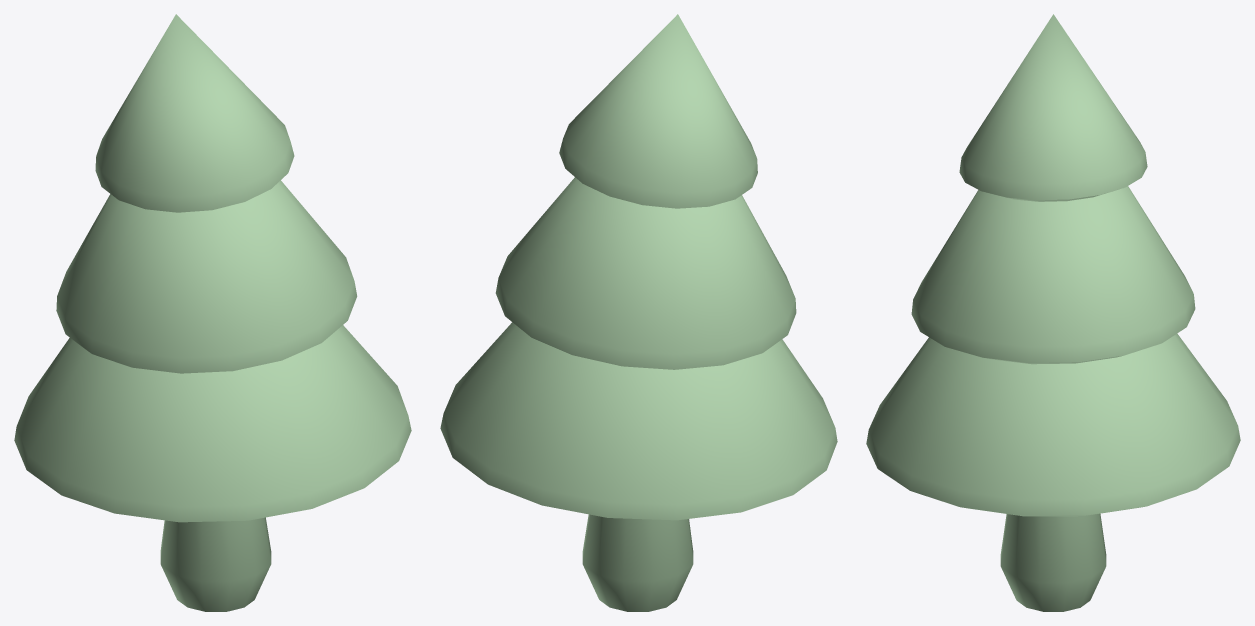
The model's file is tree_large.glb.
The picture shows the model from 3 angles, left to right: view 1: azimuth 30°, elevation 25°; view 2: azimuth 150°, elevation 25°; view 3: azimuth 270°, elevation 25°; orthographic projection. The views are drawn at different scales.
Parts seen in each view (by area): view 1: tree_large; view 2: tree_large; view 3: tree_large.
Boxes of the visible parts, left/top/right/bottom form: tree_large: left=14, top=14, right=411, bottom=611; tree_large: left=440, top=14, right=837, bottom=611; tree_large: left=866, top=14, right=1240, bottom=611.
Size of the model in its own units: 2.84 by 4.71 by 2.84.
